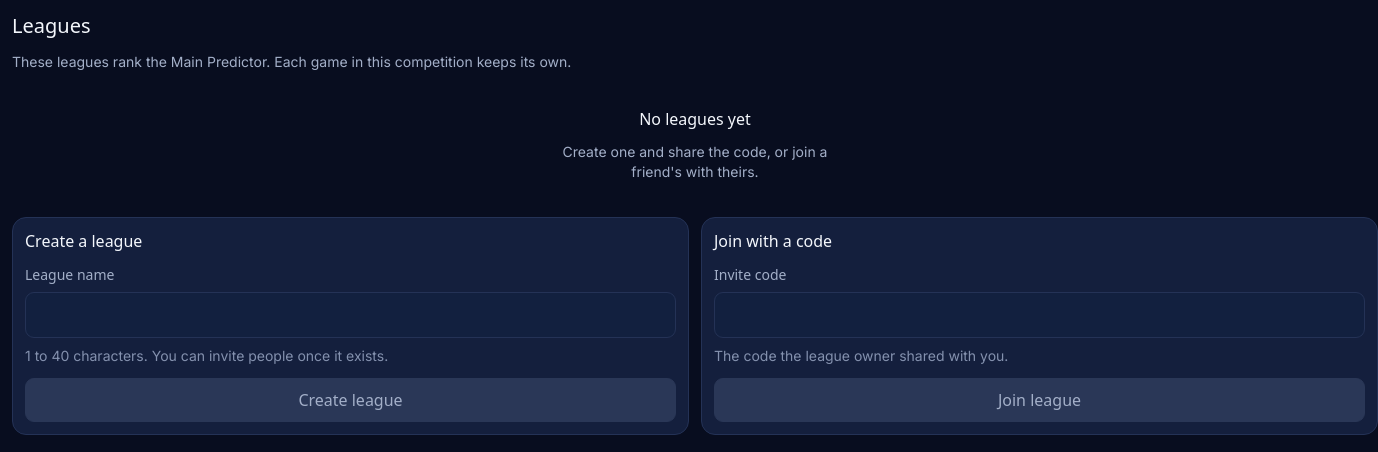
Test: the competition leagues surface › keeps a refused name in the field, and says why it was refused
The image size is (1378, 452).
expect the text "No leagues yet" is shown: met, box [639,108,751,130]
Step 1. Type "x" into the field labelled "League name" → (350, 315), box [26,293,675,337]
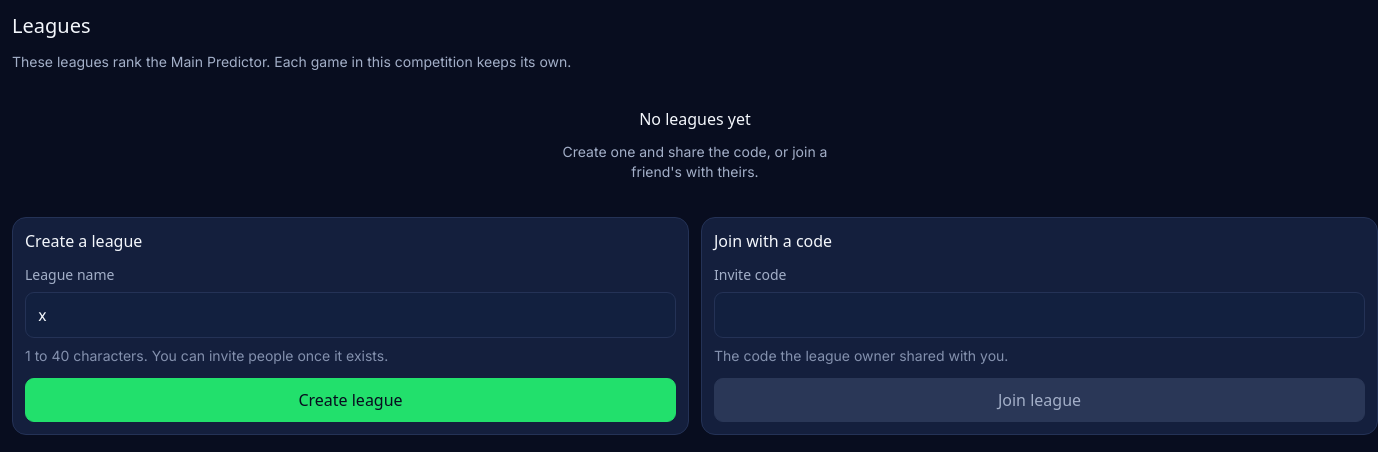
Step 2. Click the button "Create league" → (350, 400), box [25,378,676,422]
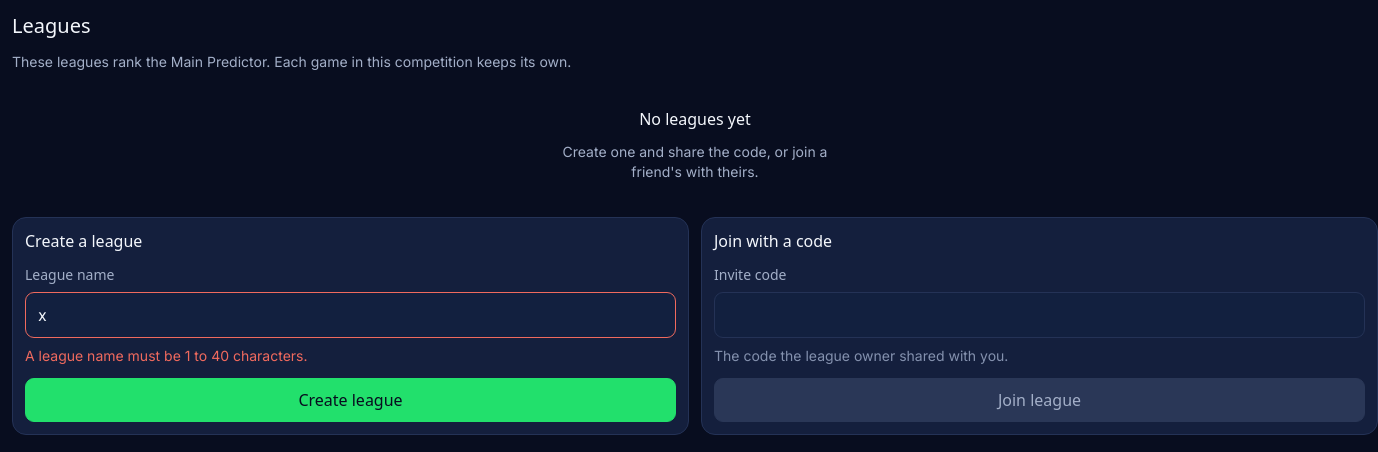
expect the text "A league name must be 1 to 40 characters." is shown: met, box [25,347,308,364]
